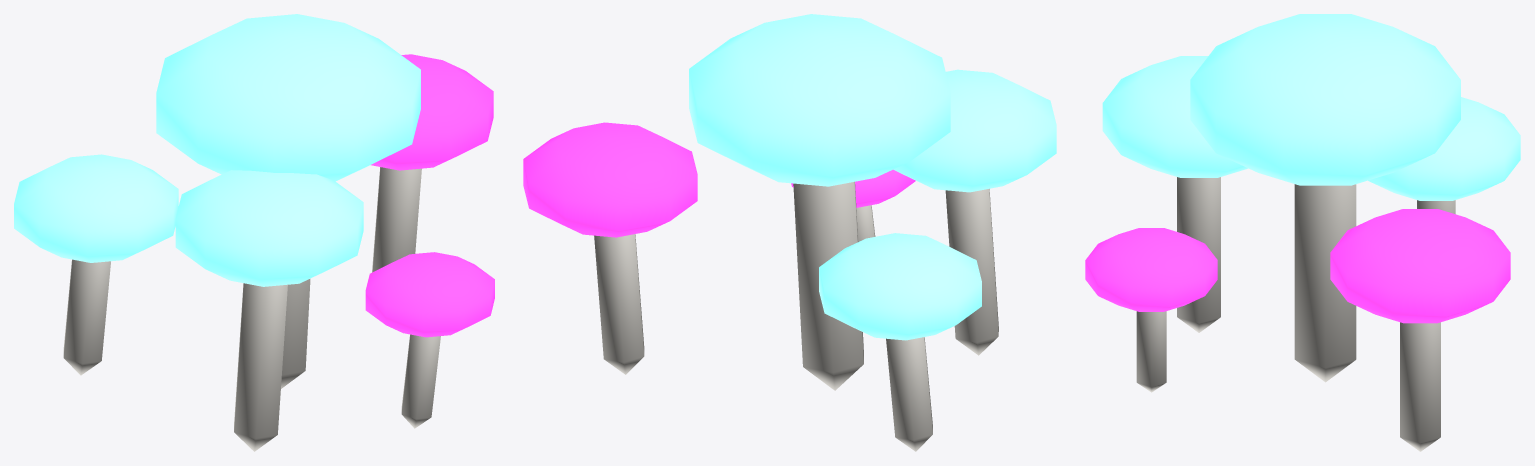
The model's file is W4_GlowMushrooms.fbx.
3 views of the same model, side by side, from view 1: azimuth 30°, elevation 25°; view 2: azimuth 150°, elevation 25°; view 3: azimuth 270°, elevation 25° (orthographic).
Visible parts, largest first — view 1: W4_GlowMushrooms; view 2: W4_GlowMushrooms; view 3: W4_GlowMushrooms.
Part boxes in pixels (bbox=[...]): W4_GlowMushrooms: bbox=[14, 14, 494, 451]; W4_GlowMushrooms: bbox=[523, 14, 1056, 451]; W4_GlowMushrooms: bbox=[1085, 14, 1520, 451].
Bounding box in the file's own units: 1.62 × 1.24 × 1.38.
